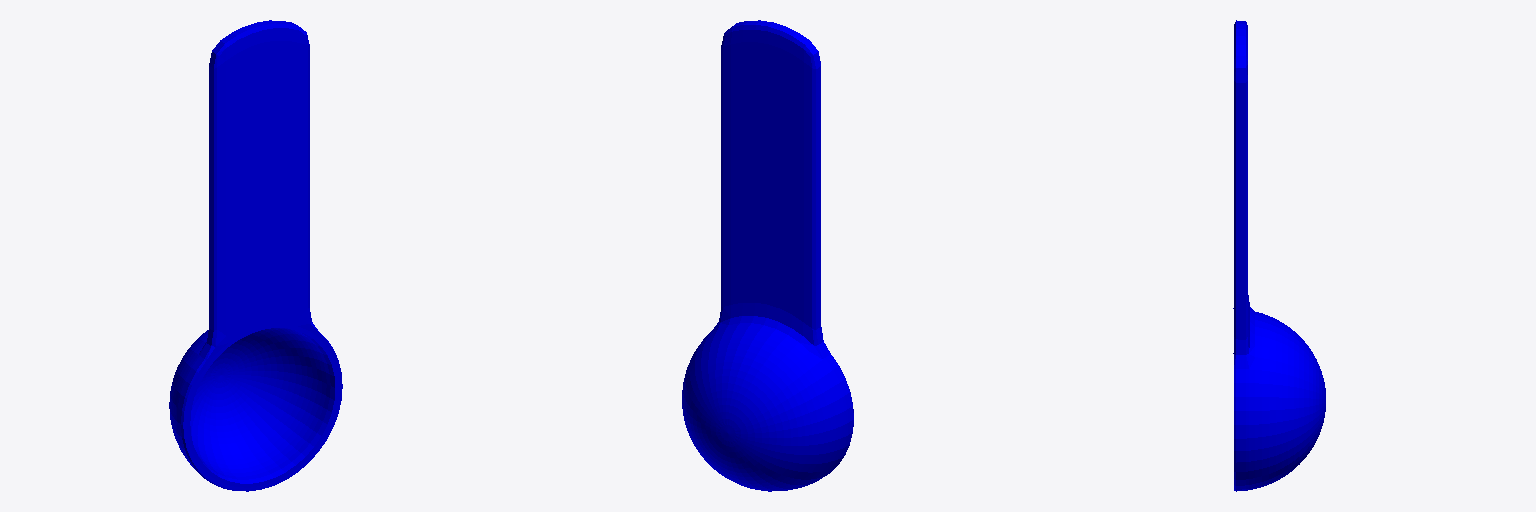
The robot description file, URDF, robot "spoon.urdf":
<?xml version="0.0" ?>
<robot name="spoon.urdf">
  <link name="baseLink">
    <contact>
      <friction_anchor/>
      <lateral_friction value="1.0"/>
    </contact>
    <inertial>
      <origin rpy="0 0 0" xyz="0 0 0"/>
       <mass value="1.0"/>
       <inertia ixx="1" ixy="0" ixz="0" iyy="1" iyz="0" izz="1"/>
    </inertial>
    <visual>
      <origin rpy="4.71238898038 0 0" xyz="0 0 .06"/>
      <geometry>
        <!--mesh filename="spoon.obj" scale=".15 .1 .15"/-->
        <mesh filename="spoon.obj" scale="0.005 0.005 .005"/>
      </geometry>
       <material name="blue">
        <color rgba="0 0 1 1"/>
      </material>
    </visual>
    <collision>
      <origin rpy="4.71238898038 0 0" xyz="0 0 .06"/>
      <geometry>
        <!--mesh filename="spoon.obj" scale=".15 .1 .15"/-->
        <mesh filename="spoon_vhacd.obj" scale="0.005 0.005 .005"/>
      </geometry>
    </collision>
  </link>
</robot>

--- Facts derived from the render (not from the file) ---
3 views of the same robot in one strip: view 1: azimuth 30°, elevation 25°; view 2: azimuth 150°, elevation 25°; view 3: azimuth 270°, elevation 25° (orthographic).
Model spoon.urdf with 1 links and 0 joints (none), rooted at baseLink, posed every joint at zero.
Links seen in each view (by area): view 1: baseLink; view 2: baseLink; view 3: baseLink.
Boxes of the visible links, x1,y1,x2,y2 form: baseLink: (169, 20, 342, 491); baseLink: (682, 20, 853, 491); baseLink: (1233, 20, 1325, 491).
Size in the robot's own frame: 0.1115 by 0.0568 by 0.306 metres.
Meshes: 1 distinct files referenced, 1 mesh visuals loaded (1 OBJ).